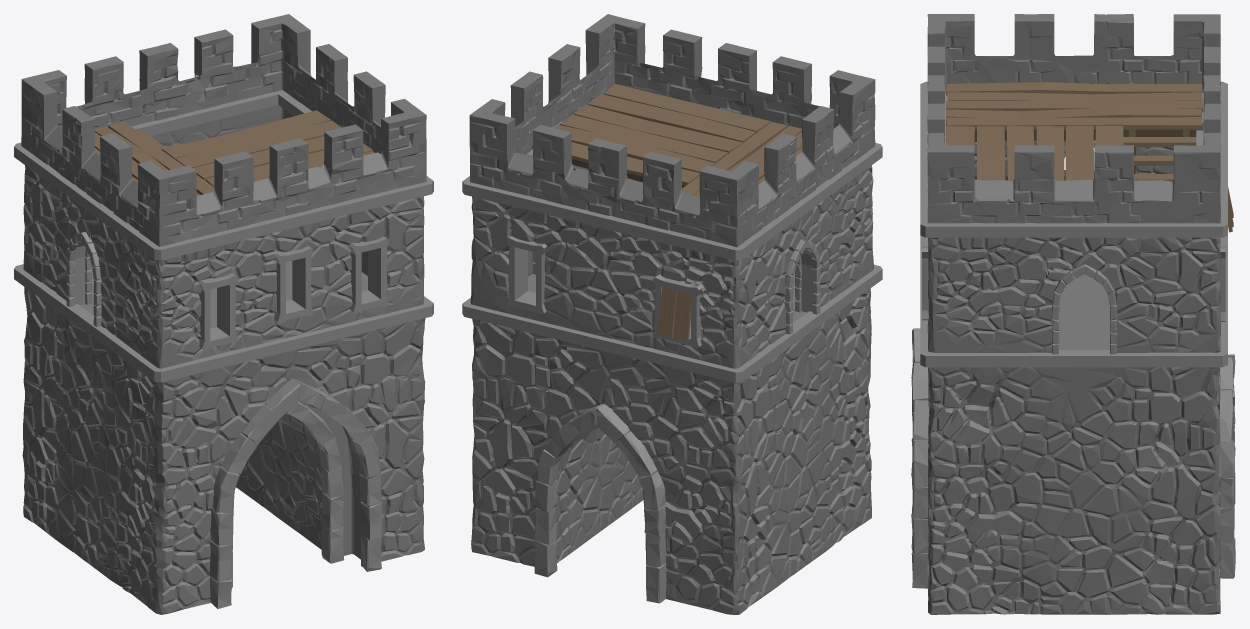
The model's file is castle_gate_house_b.FBX.
3 views of the same model, side by side, from view 1: azimuth 30°, elevation 25°; view 2: azimuth 150°, elevation 25°; view 3: azimuth 270°, elevation 25° (orthographic). The views are drawn at different scales.
Parts seen in each view (by area): view 1: castle_gate_house_b; view 2: castle_gate_house_b; view 3: castle_gate_house_b.
Part boxes in pixels (x1,y1,x2,y2): castle_gate_house_b: (14,14,433,614); castle_gate_house_b: (462,14,882,614); castle_gate_house_b: (911,14,1235,614).
Bounding box in the file's own units: 8.36 × 12.49 × 7.92.
